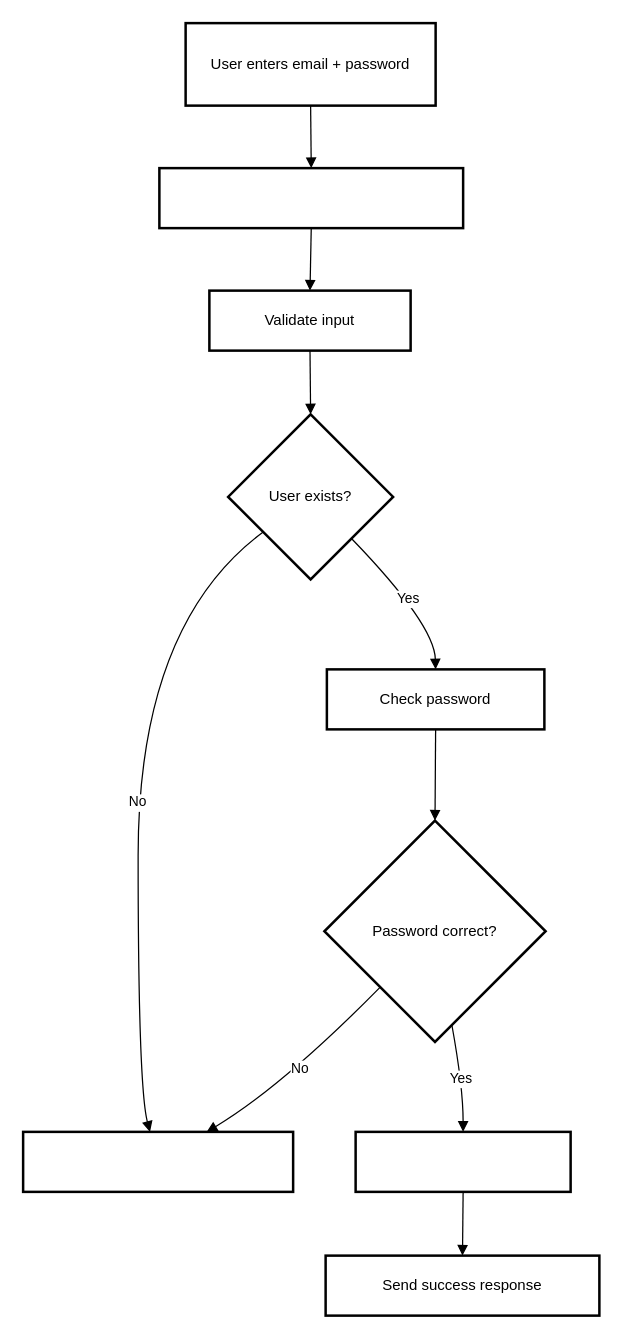
This 621x1338 diagram has some shape labels left out. The shapes that lost their labels are listed below. From the top down, each one's centre as x and y in pixels, then its label:
point (311, 197): Backend receives request
point (157, 1161): Return error response
point (462, 1161): Generate token
